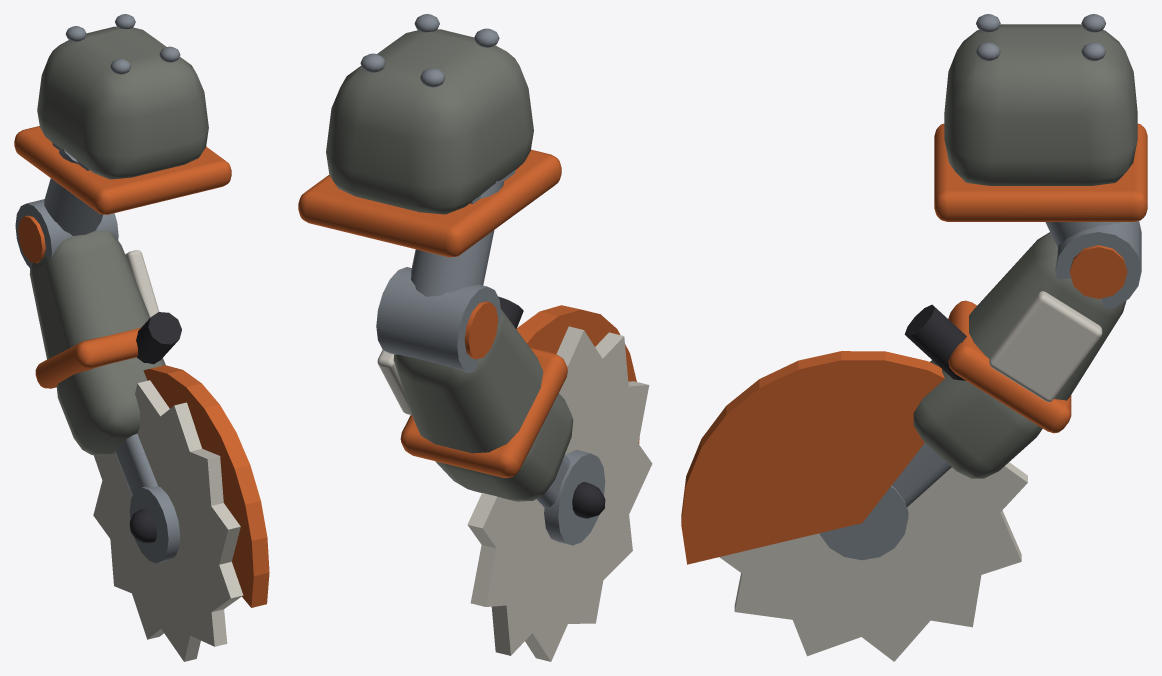
File: ar_saw.glb
The picture shows the model from 3 angles, left to right: view 1: azimuth 30°, elevation 25°; view 2: azimuth 150°, elevation 25°; view 3: azimuth 270°, elevation 25°; orthographic projection. The views are drawn at different scales.
Visible parts, largest first — view 1: ar_saw; view 2: ar_saw; view 3: ar_saw.
Boxes of the visible parts, x1,y1,x2,y2 form: ar_saw: (14,14,269,661); ar_saw: (298,14,652,661); ar_saw: (681,14,1147,661).
Size of the model in its own units: 0.1795 by 0.6402 by 0.4184.
